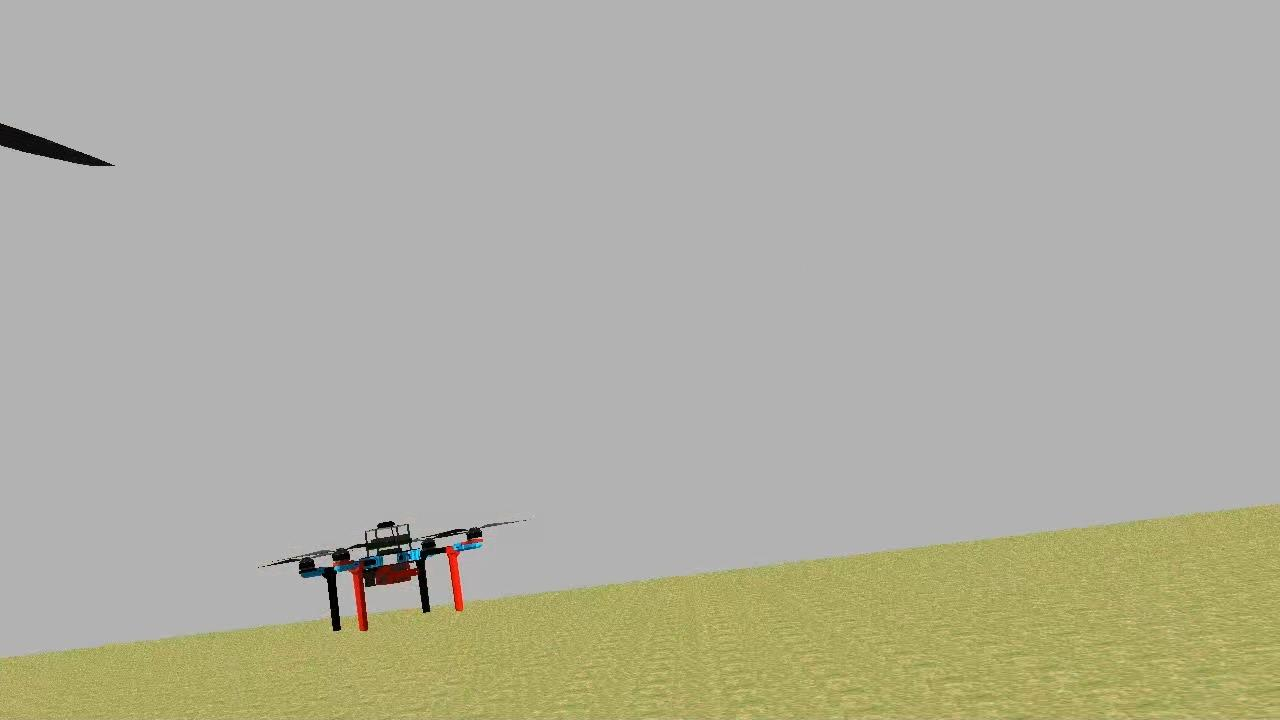UAV: (290, 510, 490, 632)
